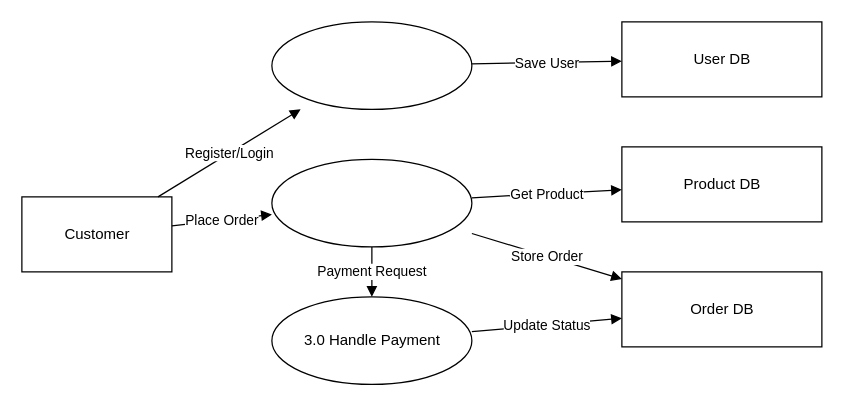
The diagram is 844 pixels wide and 406 high, and some of its shapes have lost their labels. Each missing label, with the centre of its shape:
1.0 Manage User: the point at 371,65
2.0 Process Order: the point at 371,202
